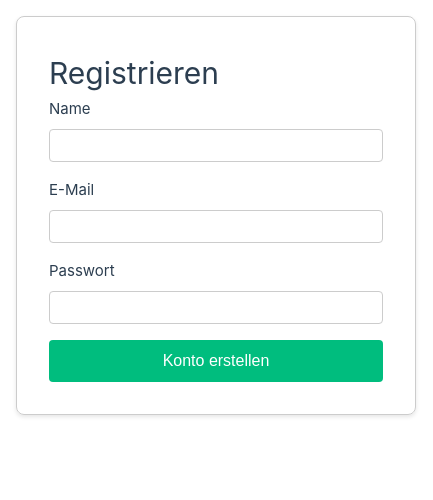
Test case: RegisterView.vue › sollte eine Fehlermeldung anzeigen, wenn Registrierung unbekannte Fehler
In the field labelled "Name": [216, 146] box [49, 129, 383, 162], type "myName"
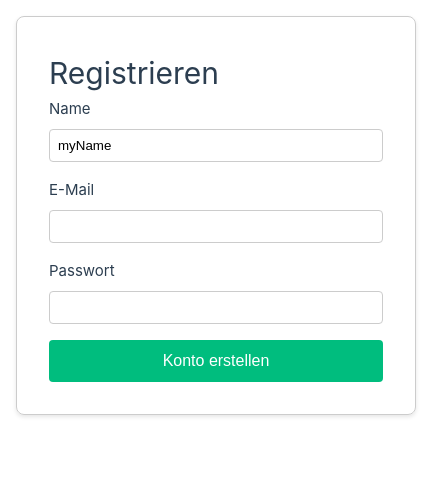
In the field labelled "E-Mail": [216, 226] box [49, 210, 383, 243], type "test@test.com"
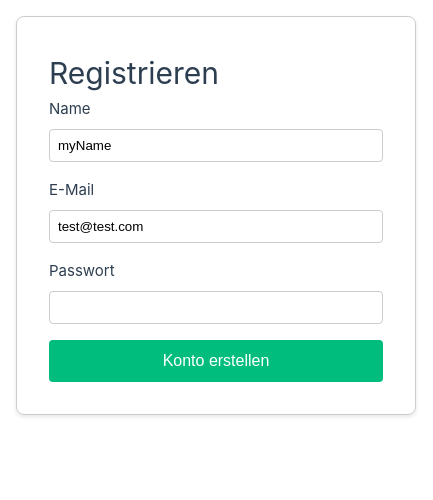
In the password field labelled "Passwort": [216, 308] box [49, 291, 383, 324], type "password"
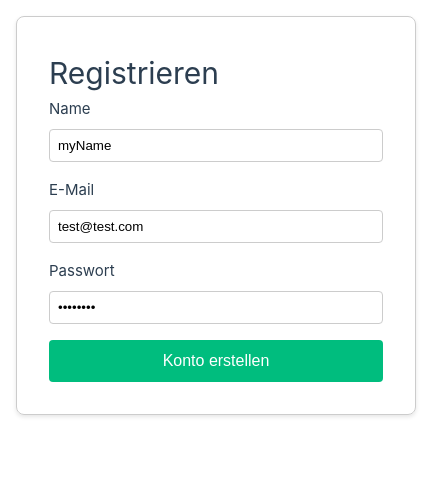
Submit the form, box [49, 97, 383, 382]
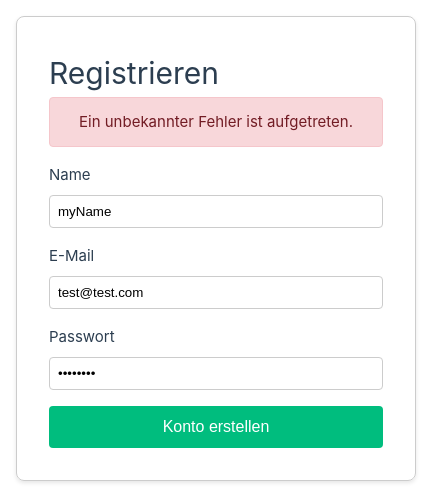
Expected: the text "Ein unbekannter Fehler ist aufgetreten." is shown, [49, 97, 383, 147]
Expected: the text with class "error-message" reads "Ein unbekannter Fehler ist aufgetreten.", [79, 112, 353, 131]
